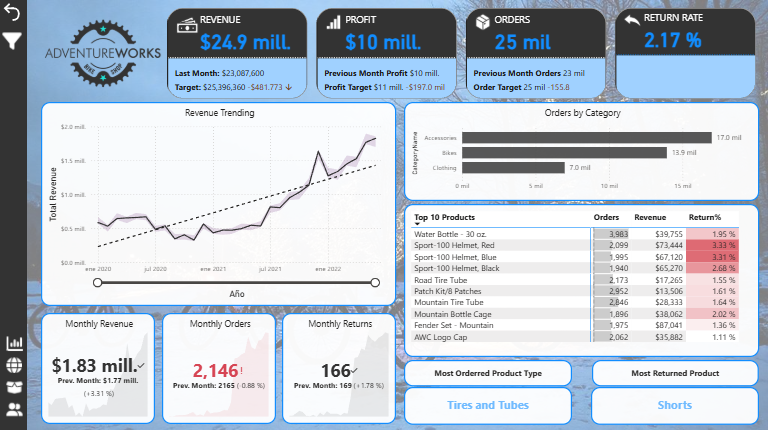

Layout of this report page (visuals, bound fields, positions):
{"tool":"powerbi","page":{"name":"Exec Dashboard","canvas":[1280,720],"ordinal":0},"visuals":[{"type":"image","title":"AW Logo","box":[44.6,25.5,253.4,127.5],"z":0},{"type":"actionButton","box":[7.1,555.7,35.7,35.7],"z":0,"group":"g1"},{"type":"shape","title":"Left Nav Background","box":[0,0,45,720],"z":1000},{"type":"actionButton","box":[7.1,592.8,35.7,34.3],"z":1000,"group":"g1"},{"type":"lineChart","title":"Revenue Trending","fields":{"Y":["Measure Table.Total Revenue"],"Category":["Calendar Lookup.Inicio del mes.Variación.Jerarquía de fechas.Año","Calendar Lookup.Inicio del mes.Variación.Jerarquía de fechas.Trimestre","Calendar Lookup.Inicio del mes.Variación.Jerarquía de fechas.Mes","Calendar Lookup.Inicio del mes.Variación.Jerarquía de fechas.Día"]},"box":[68.3,170,591.7,340],"z":2000},{"type":"actionButton","box":[7,629,35,35],"z":2000,"group":"g1"},{"type":"kpi","title":"Monthly Revenue","fields":{"Indicator":["Measure Table.Total Revenue"],"TrendLine":["Calendar Lookup.Inicio del mes"],"Goal":["Measure Table.Previous Month Revenue"]},"box":[68.3,521.7,190,185],"z":3000},{"type":"actionButton","box":[7,665.7,35,35],"z":3000,"group":"g1"},{"type":"kpi","title":"Monthly Orders","fields":{"TrendLine":["Calendar Lookup.Inicio del mes"],"Indicator":["Measure Table.Total Orders"],"Goal":["Measure Table.Previous Month Orders"]},"box":[270,521.7,190,185],"z":4000},{"type":"kpi","title":"Monthly Returns","fields":{"TrendLine":["Calendar Lookup.Inicio del mes"],"Indicator":["Measure Table.Total Returns"],"Goal":["Measure Table.Previous Month Returns"]},"box":[470,521.7,190,185],"z":5000},{"type":"clusteredBarChart","title":"Orders by Category","fields":{"Category":["Product Categories Lookup.CategoryName"],"Y":["Measure Table.Total Orders"]},"box":[673.3,170,591.7,165],"z":6000},{"type":"pivotTable","fields":{"Rows":["Product Lookup.ProductName"],"Values":["Measure Table.Total Orders","Measure Table.Total Revenue","Measure Table.Return Rate"]},"box":[673.3,340,591.7,255],"z":7000},{"type":"card","fields":{"Values":["Min(Product Subcategories Lookup.SubcategoryName)"]},"box":[672.9,644.3,280,62.9],"z":8000},{"type":"textbox","box":[672.5,600,280,43.8],"z":9000},{"type":"card","fields":{"Values":["Min(Product Subcategories Lookup.SubcategoryName)"]},"box":[985.7,644.3,280,62.9],"z":10000},{"type":"textbox","box":[986.2,600,277.5,43.8],"z":11000},{"type":"actionButton","box":[0,0,45.6,39.7],"z":12000},{"type":"group","id":"g1","title":"Navigation Buttons","box":[7,555.7,35.9,145],"z":13000},{"type":"actionButton","box":[0,48.6,42.9,40],"z":14000},{"type":"cardVisual","fields":{"Data":["Measure Table.Total Revenue","Measure Table.Total Profit","Measure Table.Total Orders","Measure Table.Return Rate"]},"box":[272.5,7.5,993.8,161.2],"z":16000}]}

Visuals, with their boxes on the page's 1280x720 design canvas (x1, y1, x2, y2). These are canvas units, not pixel positions in the 768x430 screenshot, which may show the page scaled, cropped or inside an application window:
"AW Logo" image: bbox=[45, 26, 298, 153]
actionButton: bbox=[7, 556, 43, 591]
"Left Nav Background" shape: bbox=[0, 0, 45, 720]
actionButton: bbox=[7, 593, 43, 627]
"Revenue Trending" lineChart: bbox=[68, 170, 660, 510]
actionButton: bbox=[7, 629, 42, 664]
"Monthly Revenue" kpi: bbox=[68, 522, 258, 707]
actionButton: bbox=[7, 666, 42, 701]
"Monthly Orders" kpi: bbox=[270, 522, 460, 707]
"Monthly Returns" kpi: bbox=[470, 522, 660, 707]
"Orders by Category" clusteredBarChart: bbox=[673, 170, 1265, 335]
pivotTable - Product Lookup.ProductName x Measure Table.Total Orders: bbox=[673, 340, 1265, 595]
card - Min(Product Subcategories Lookup.SubcategoryName): bbox=[673, 644, 953, 707]
textbox: bbox=[672, 600, 952, 644]
card - Min(Product Subcategories Lookup.SubcategoryName): bbox=[986, 644, 1266, 707]
textbox: bbox=[986, 600, 1264, 644]
actionButton: bbox=[0, 0, 46, 40]
"Navigation Buttons" group: bbox=[7, 556, 43, 701]
actionButton: bbox=[0, 49, 43, 89]
cardVisual - Measure Table.Total Revenue x Measure Table.Total Profit: bbox=[272, 8, 1266, 169]
